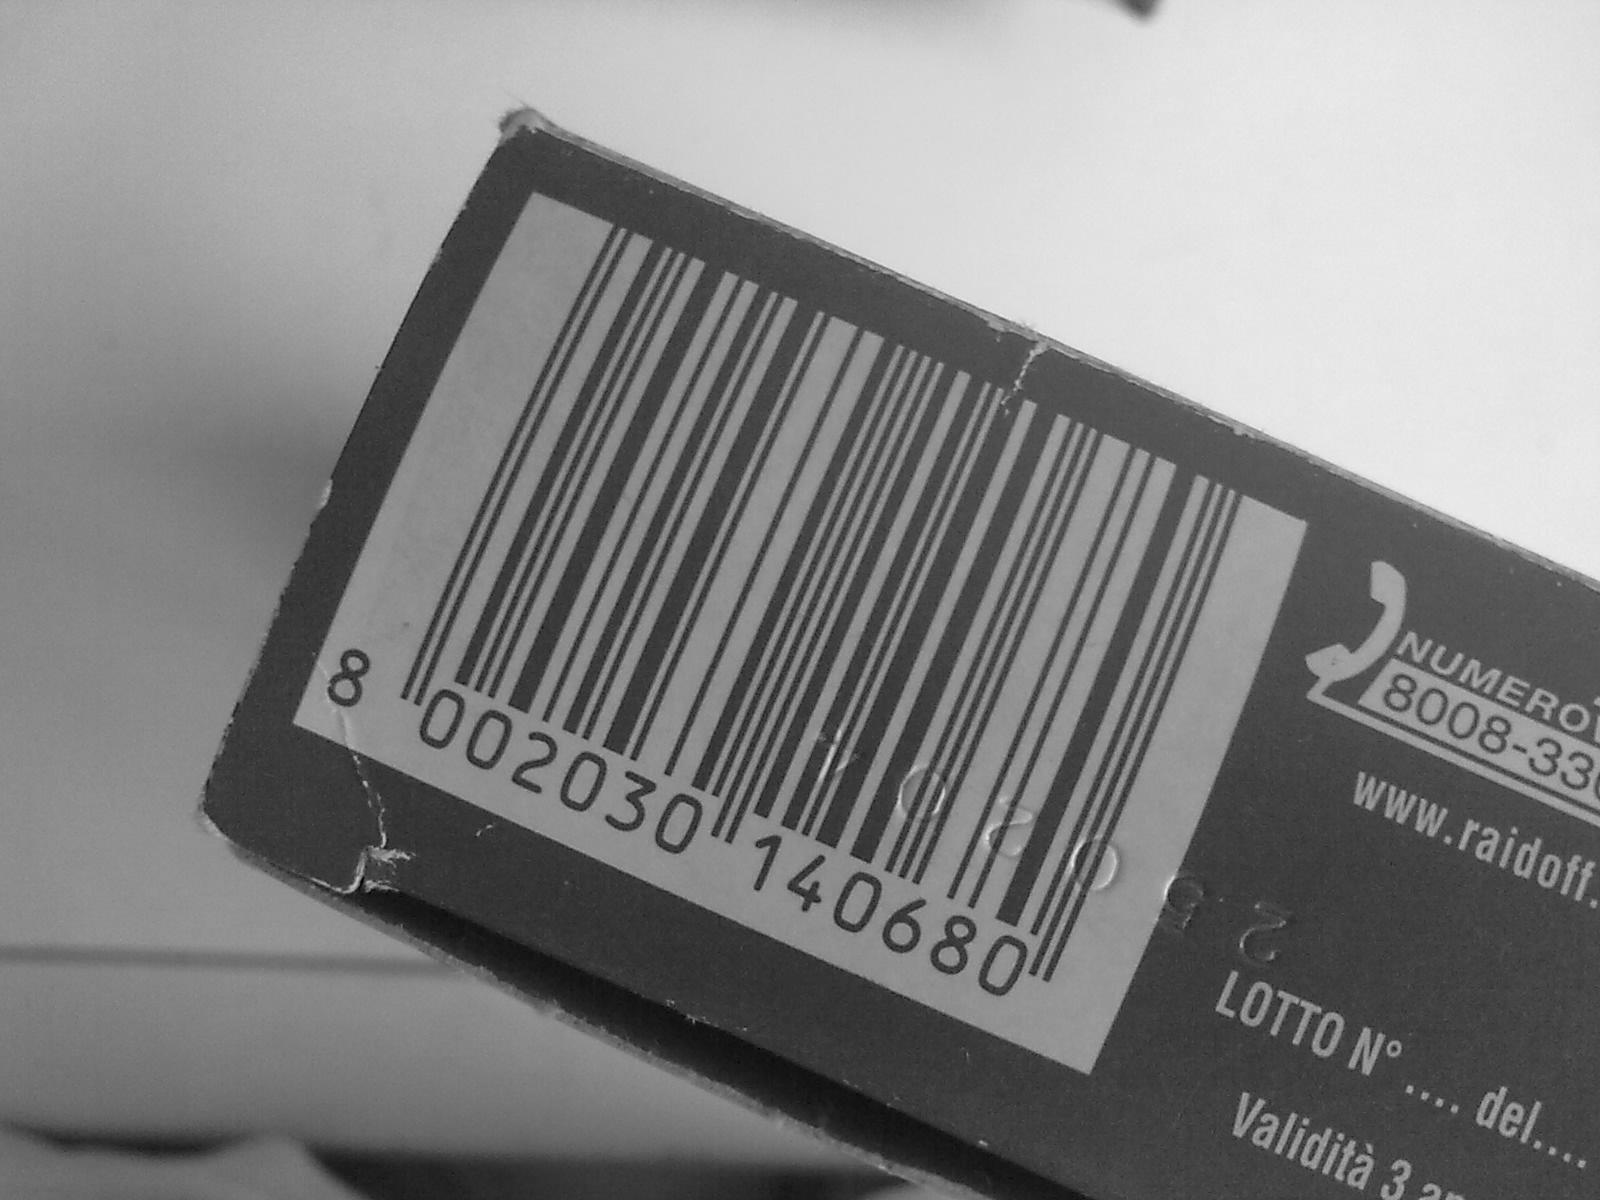Barcode: (496, 175, 1270, 978)
